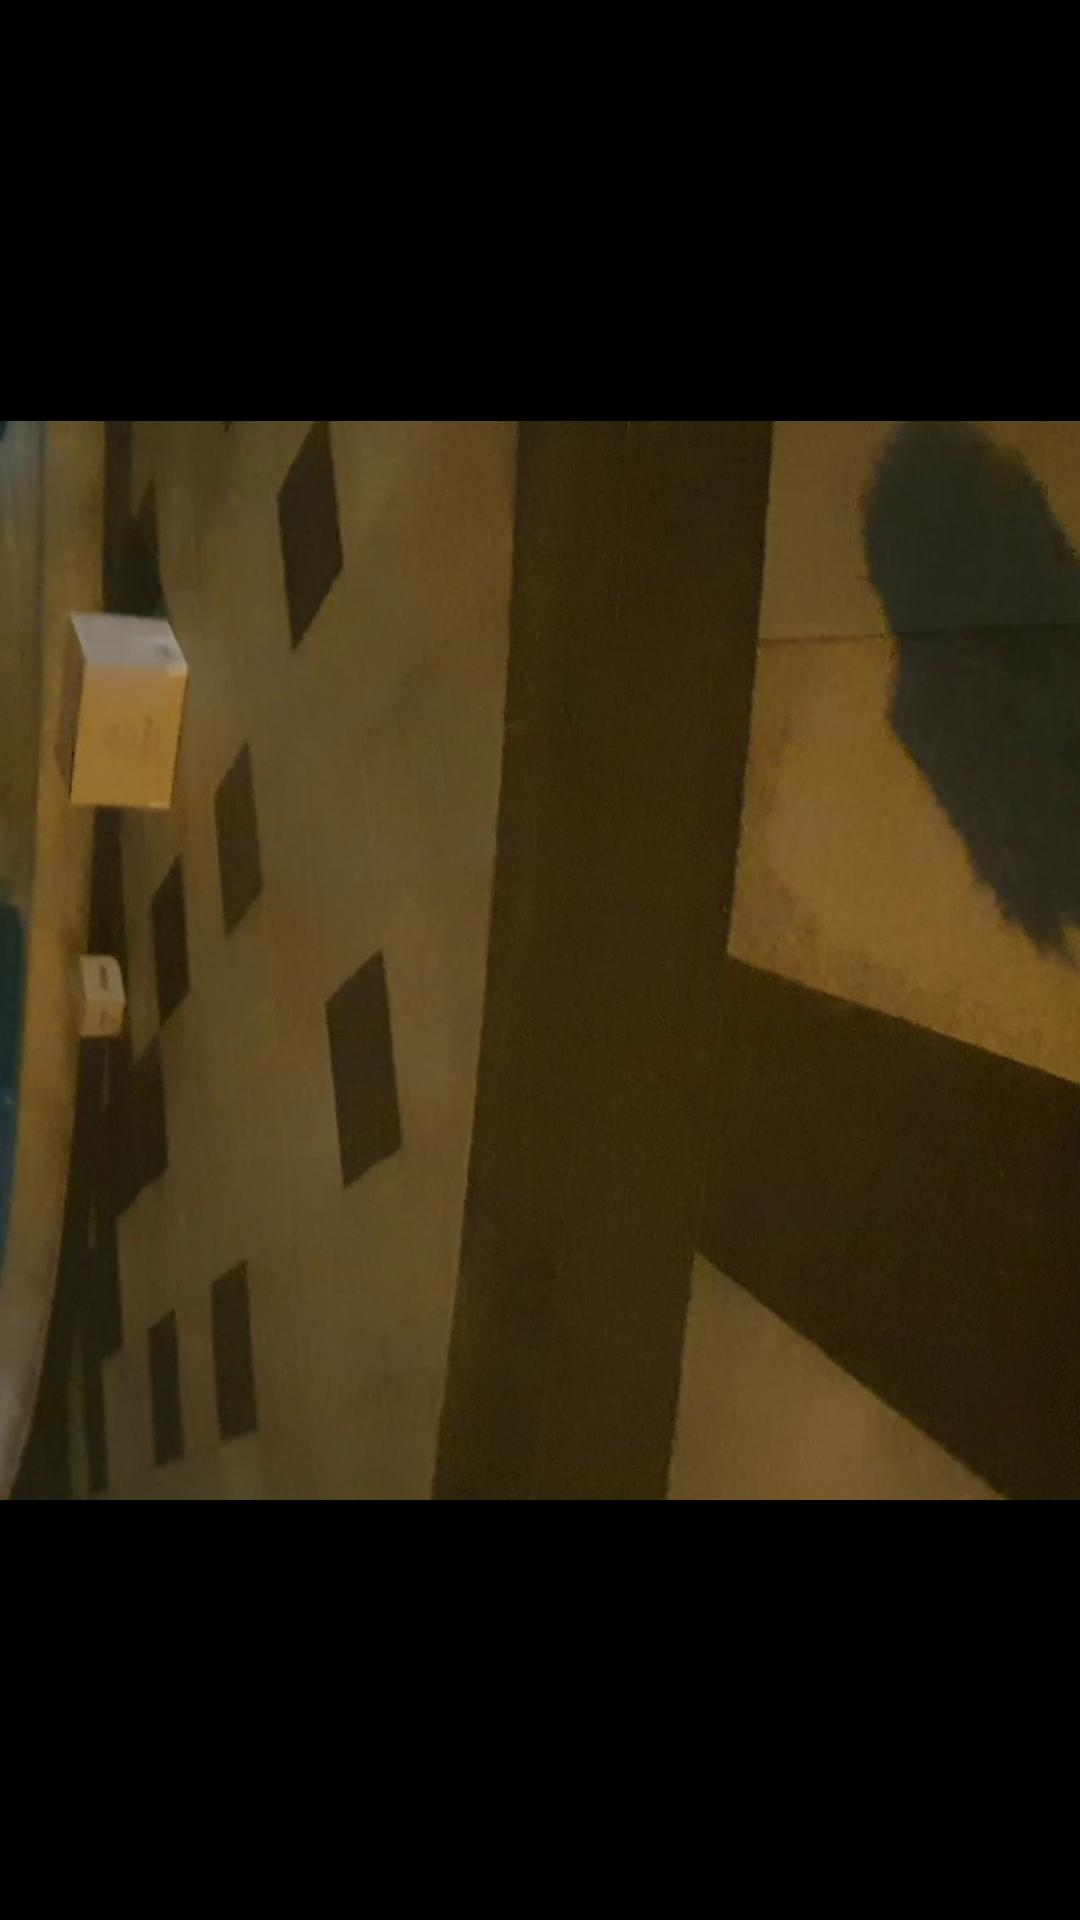Box: (50, 608, 193, 819), (65, 949, 145, 1039)
